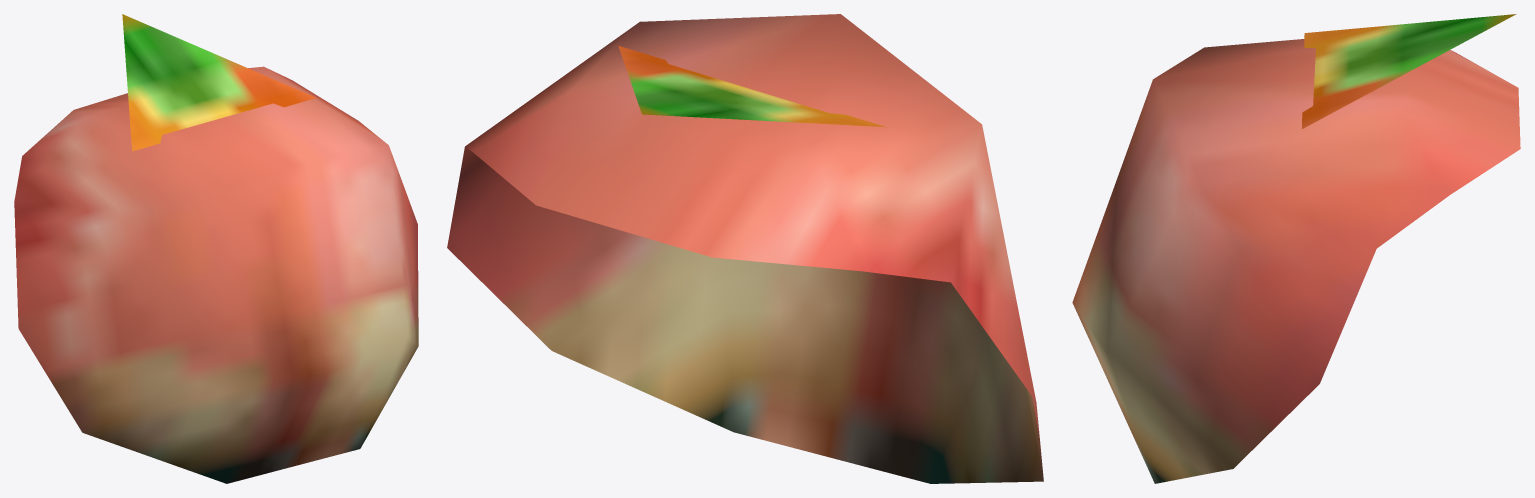
The model's file is fg_orange_out.dae.
The picture shows the model from 3 angles, left to right: view 1: azimuth 30°, elevation 25°; view 2: azimuth 150°, elevation 25°; view 3: azimuth 270°, elevation 25°; orthographic projection. The views are drawn at different scales.
Visible parts, largest first — view 1: fg_orange_out; view 2: fg_orange_out; view 3: fg_orange_out.
Boxes of the visible parts, x1,y1,x2,y2 form: fg_orange_out: [14, 14, 418, 483]; fg_orange_out: [447, 14, 1043, 483]; fg_orange_out: [1072, 14, 1520, 483].
Size of the model in its own units: 14 by 11.69 by 11.28.
Materials: 1 (1 with a texture image).
